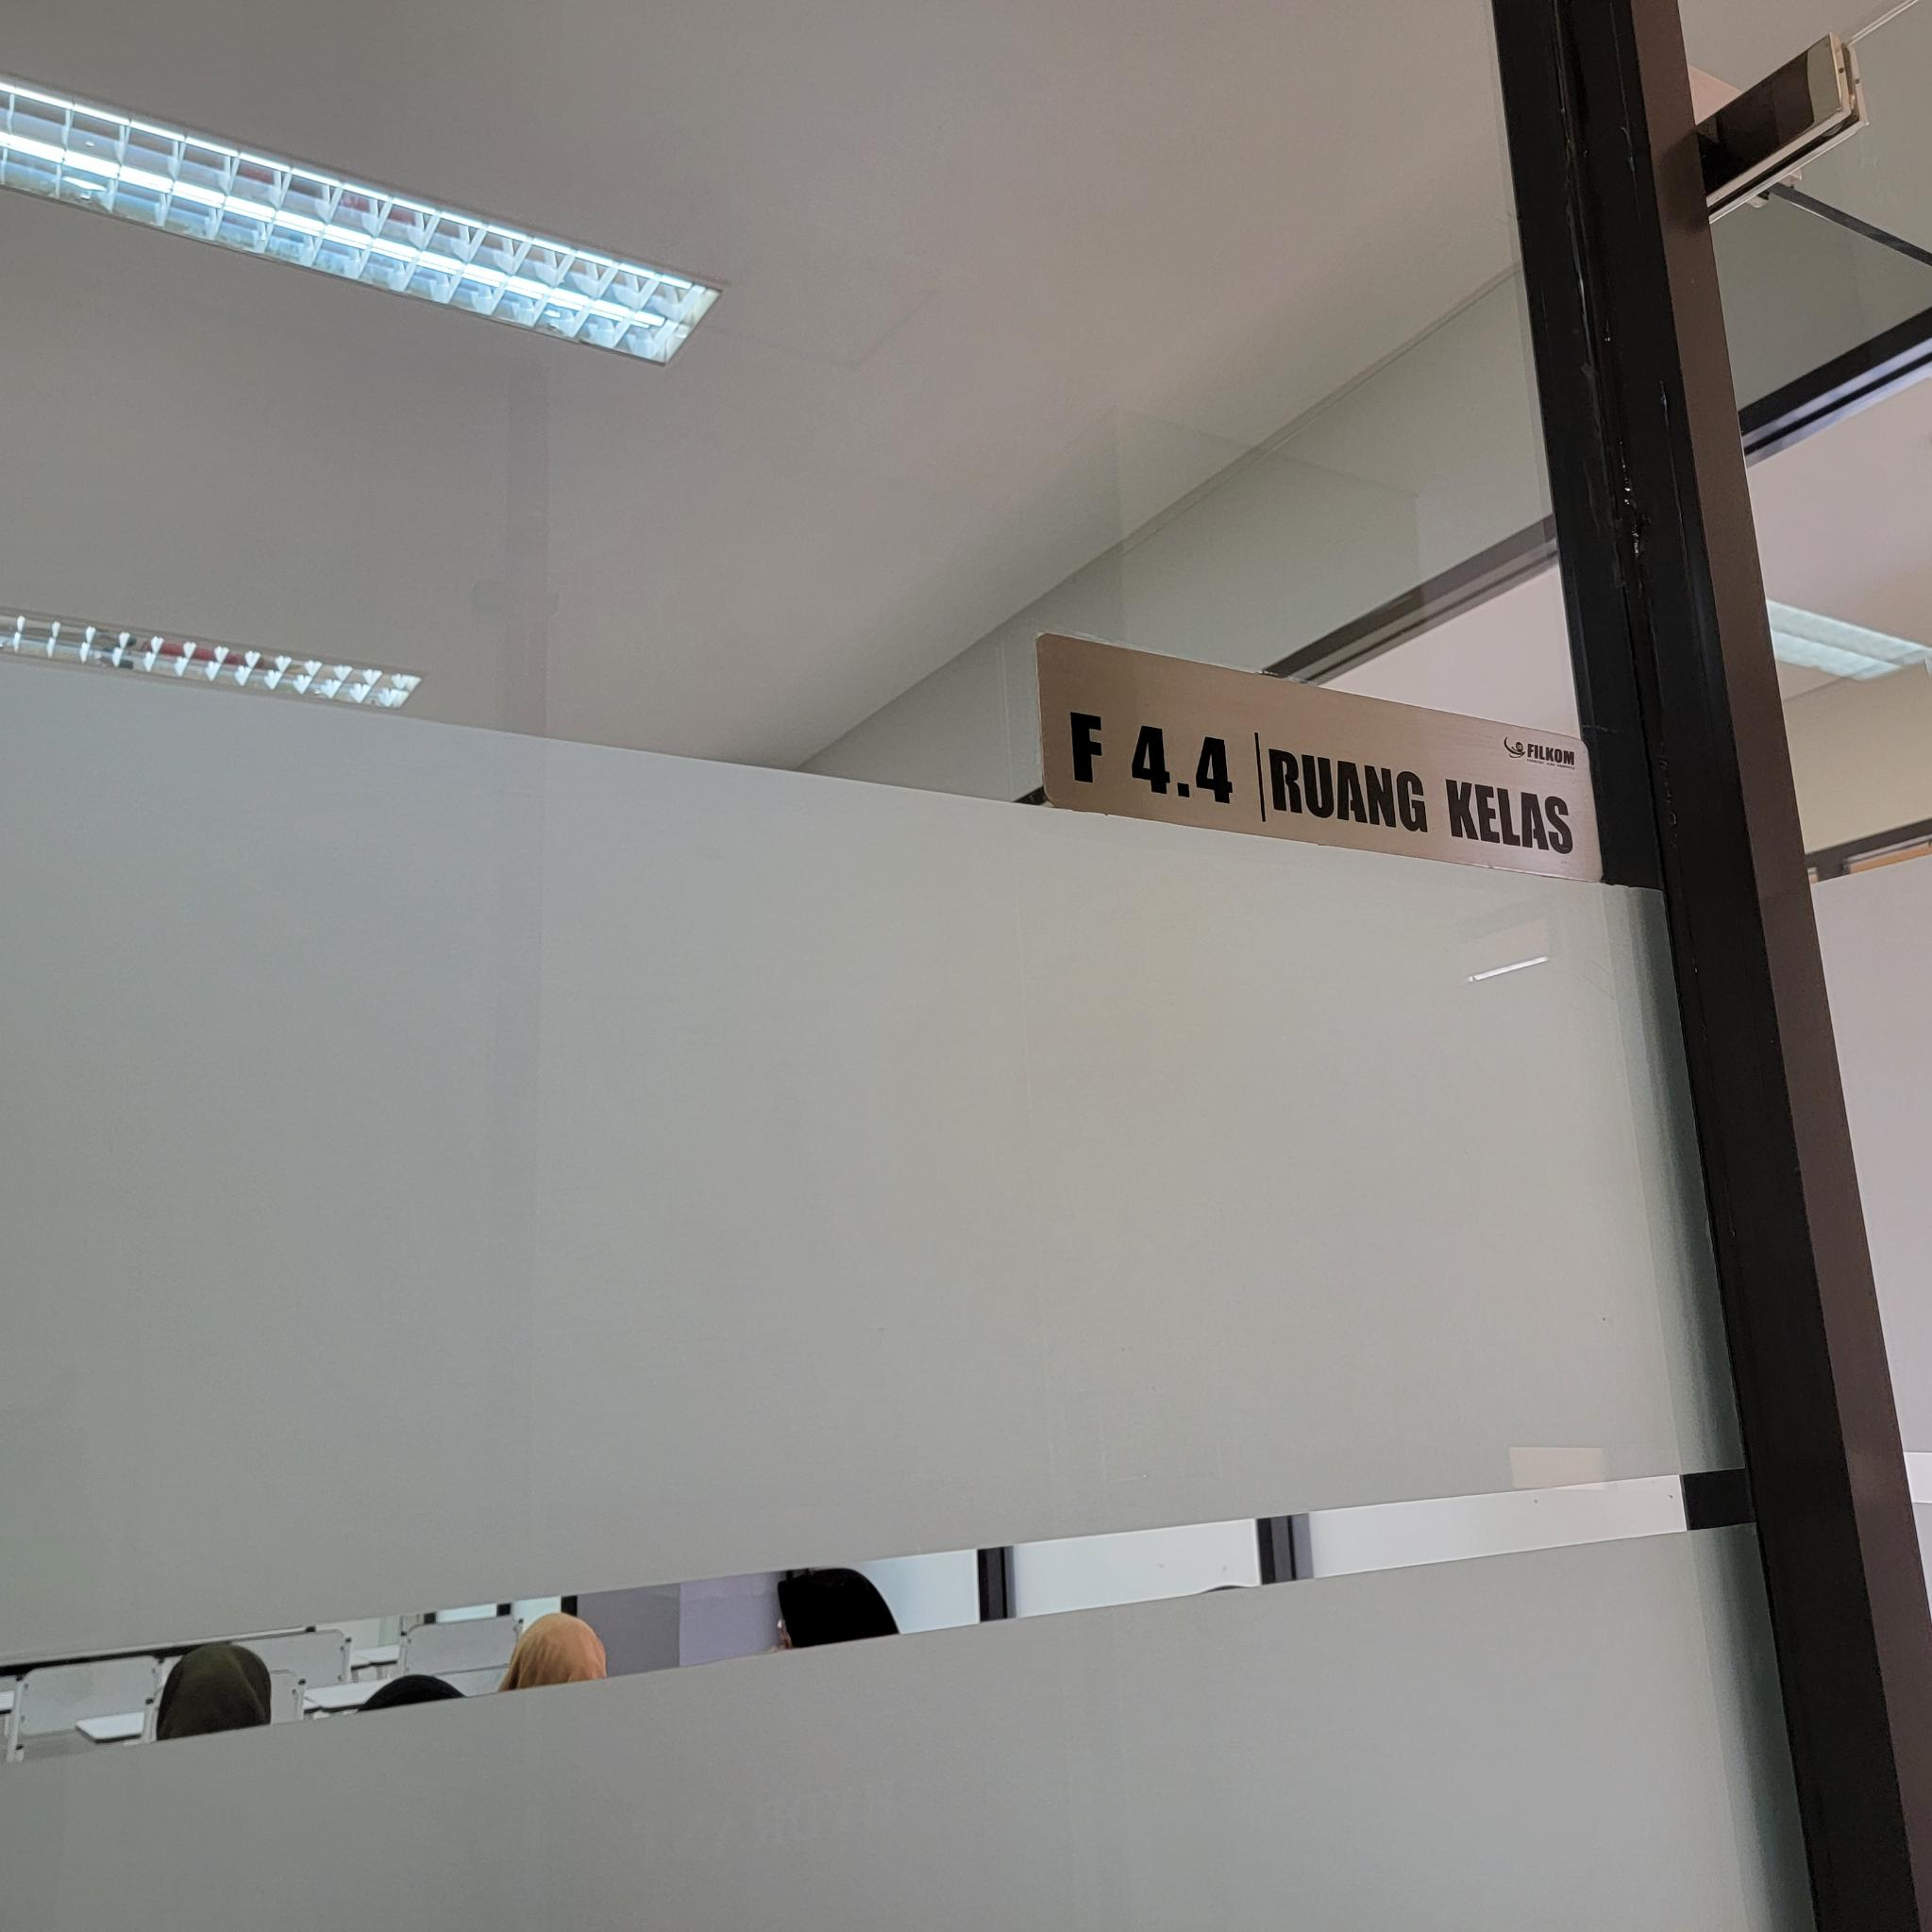plate: (1035, 626, 1605, 883)
